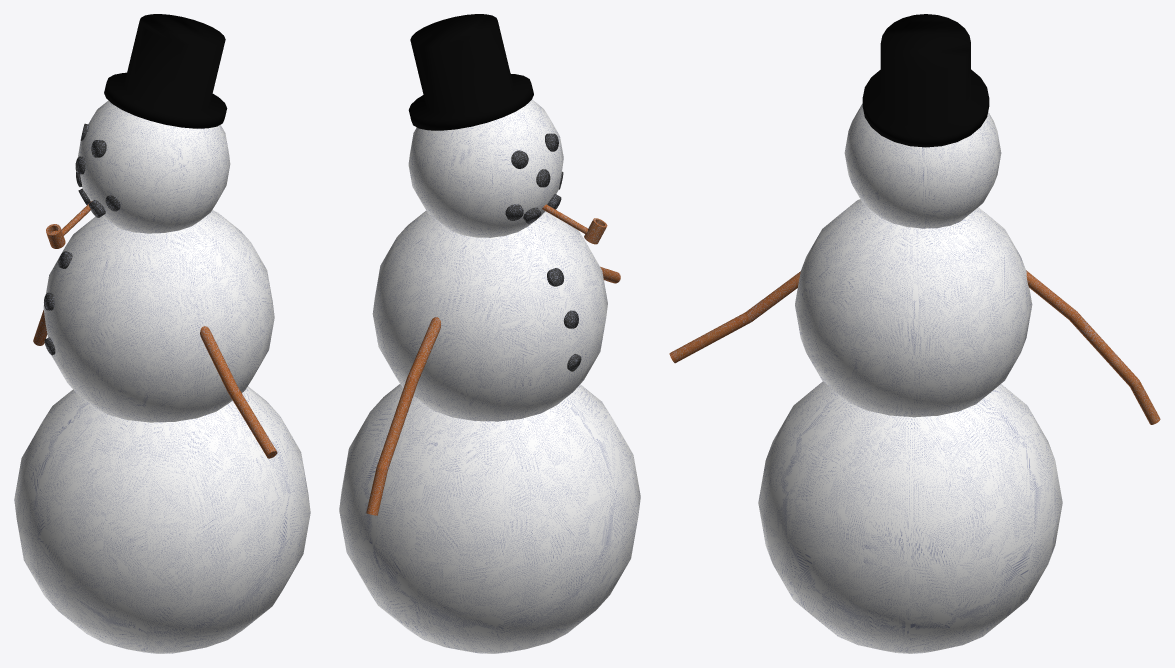
File: Snowman_dae.dae
3 renders of one model, left to right at view 1: azimuth 30°, elevation 25°; view 2: azimuth 150°, elevation 25°; view 3: azimuth 270°, elevation 25°, orthographic. The views are drawn at different scales.
Parts seen in each view (by area): view 1: SimpleSphere02 (×3), Component_1 (×2), Component_5; view 2: SimpleSphere02 (×3), Component_1 (×2), Component_5; view 3: SimpleSphere02 (×3), Component_1 (×2), Component_5 (×2).
Boxes of the visible parts, bbox=[...] form: SimpleSphere02 (×3): bbox=[14, 100, 310, 653]; Component_1 (×2): bbox=[104, 14, 227, 128]; Component_5: bbox=[200, 326, 277, 458]; SimpleSphere02 (×3): bbox=[339, 99, 640, 653]; Component_1 (×2): bbox=[408, 14, 533, 130]; Component_5: bbox=[366, 317, 440, 515]; SimpleSphere02 (×3): bbox=[758, 103, 1062, 653]; Component_1 (×2): bbox=[862, 14, 989, 147]; Component_5 (×2): bbox=[669, 270, 1160, 424].
Size of the model in its own units: 126 by 203 by 284.
